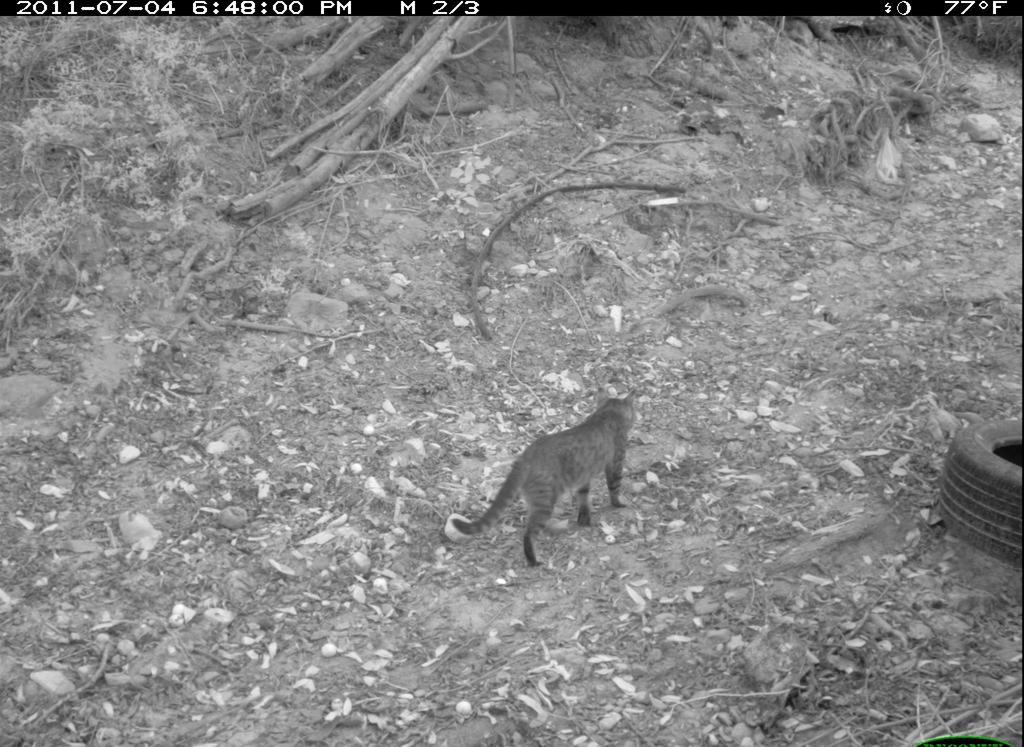cat: (446, 386, 641, 570)
